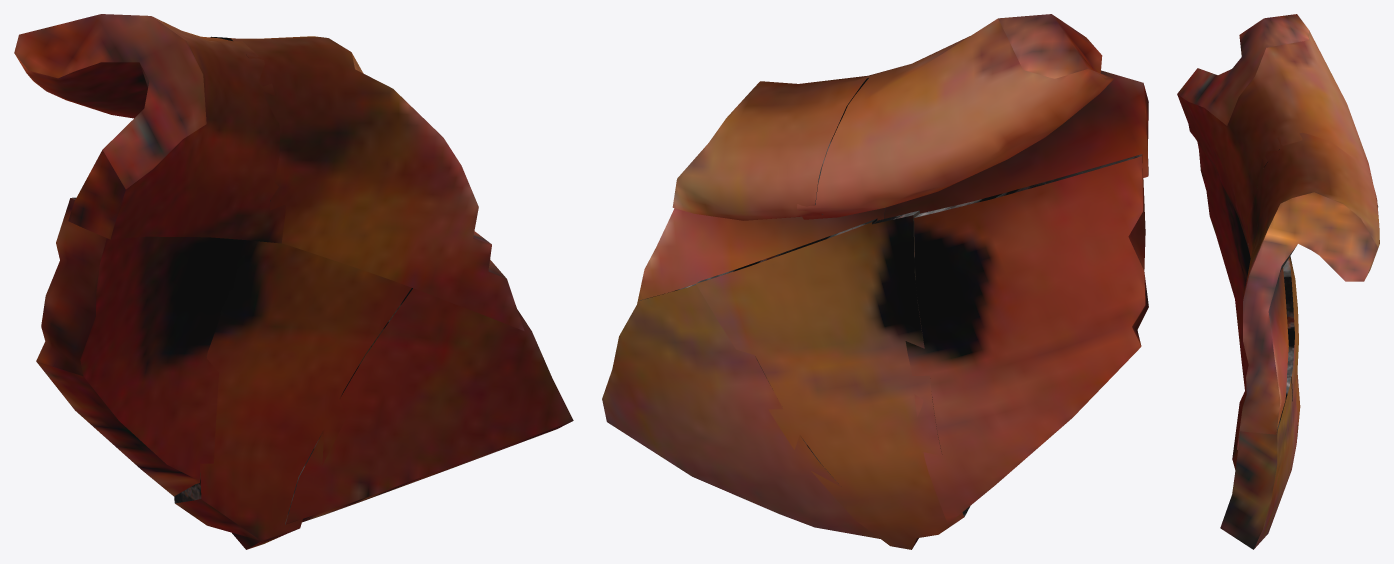
File: Ceramic008.gltf
3 views of the same model, side by side, from view 1: azimuth 30°, elevation 25°; view 2: azimuth 150°, elevation 25°; view 3: azimuth 270°, elevation 25° (orthographic). The views are drawn at different scales.
Visible parts, largest first — view 1: Ceramic008_001, Ceramic008, Ceramic008_004, Ceramic008_002, Ceramic008_003; view 2: Ceramic008_004, Ceramic008_002, Ceramic008_001, Ceramic008_003, Ceramic008; view 3: Ceramic008, Ceramic008_001, Ceramic008_003, Ceramic008_004, Ceramic008_002.
Part boxes in pixels (<box>): Ceramic008_001: <box>14,14,285,243</box>; Ceramic008: <box>210,36,524,330</box>; Ceramic008_004: <box>36,197,244,496</box>; Ceramic008_002: <box>174,240,411,549</box>; Ceramic008_003: <box>285,288,573,524</box>; Ceramic008_004: <box>905,154,1148,523</box>; Ceramic008_002: <box>696,210,970,549</box>; Ceramic008_001: <box>797,14,1148,219</box>; Ceramic008_003: <box>602,284,879,538</box>; Ceramic008: <box>638,76,885,300</box>; Ceramic008: <box>1237,132,1379,449</box>; Ceramic008_001: <box>1177,14,1378,255</box>; Ceramic008_003: <box>1220,377,1298,549</box>; Ceramic008_004: <box>1197,142,1250,390</box>; Ceramic008_002: <box>1232,256,1300,469</box>.
Bounding box in the file's own units: 0.1086 × 0.1122 × 0.0504.
Materials: 1 (1 with a texture image).
